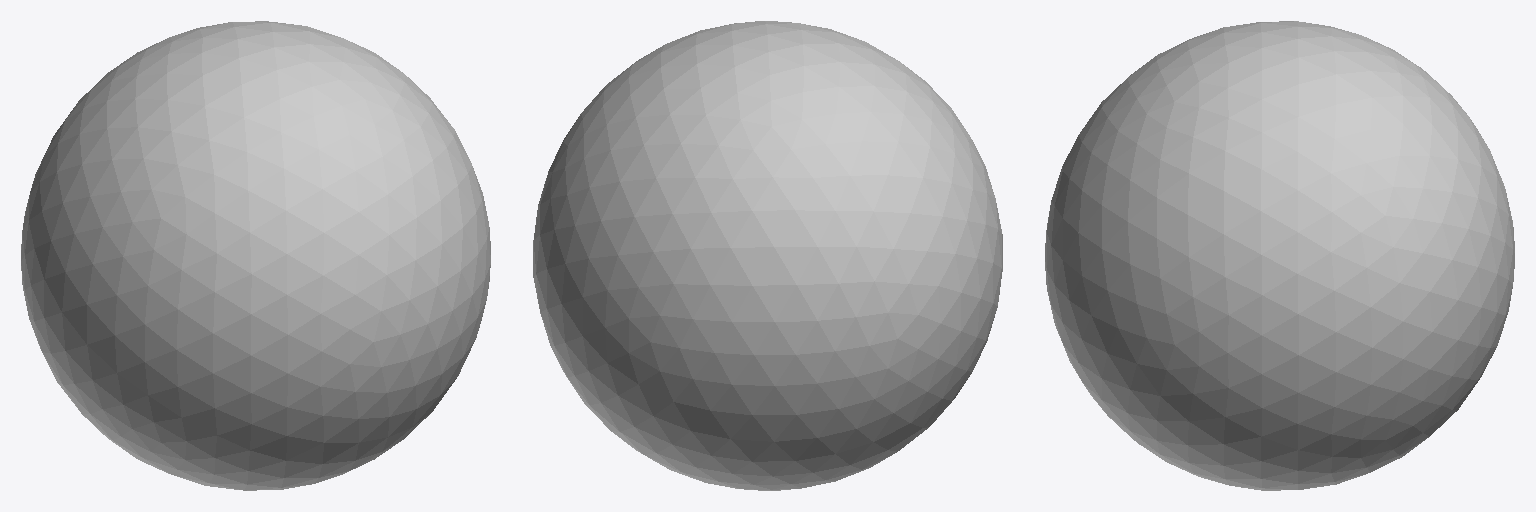
The model's file is ball1k.obj.
The picture shows the model from 3 angles: view 1: azimuth 30°, elevation 25°; view 2: azimuth 150°, elevation 25°; view 3: azimuth 270°, elevation 25°; orthographic projection.
Visible parts, largest first — view 1: pPlatonic1; view 2: pPlatonic1; view 3: pPlatonic1.
Part boxes in pixels (bbox=[...]): pPlatonic1: bbox=[21, 21, 490, 490]; pPlatonic1: bbox=[533, 21, 1002, 490]; pPlatonic1: bbox=[1045, 21, 1514, 490].
Size of the model in its own units: 1.99 by 1.99 by 2.